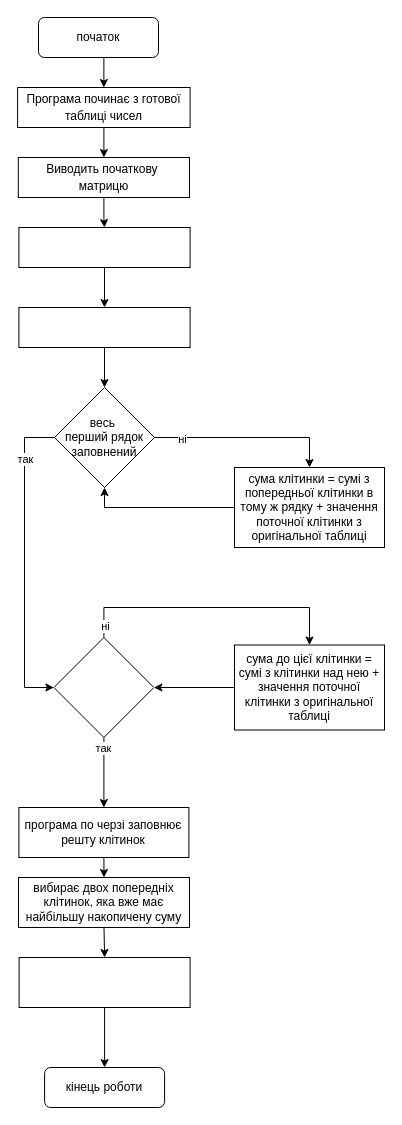
Image size: 402x1125. Some labels were removed from this diagram. Each missing label, with the centre of its shape:
весь перший стовпець заповнений: (x=103, y=687)
виводимо значення правого нижнього елемента: (x=104, y=982)
перша клітинка заповнена: (x=104, y=327)
Створення "Допоміжної" Таблиці: (x=104, y=247)
